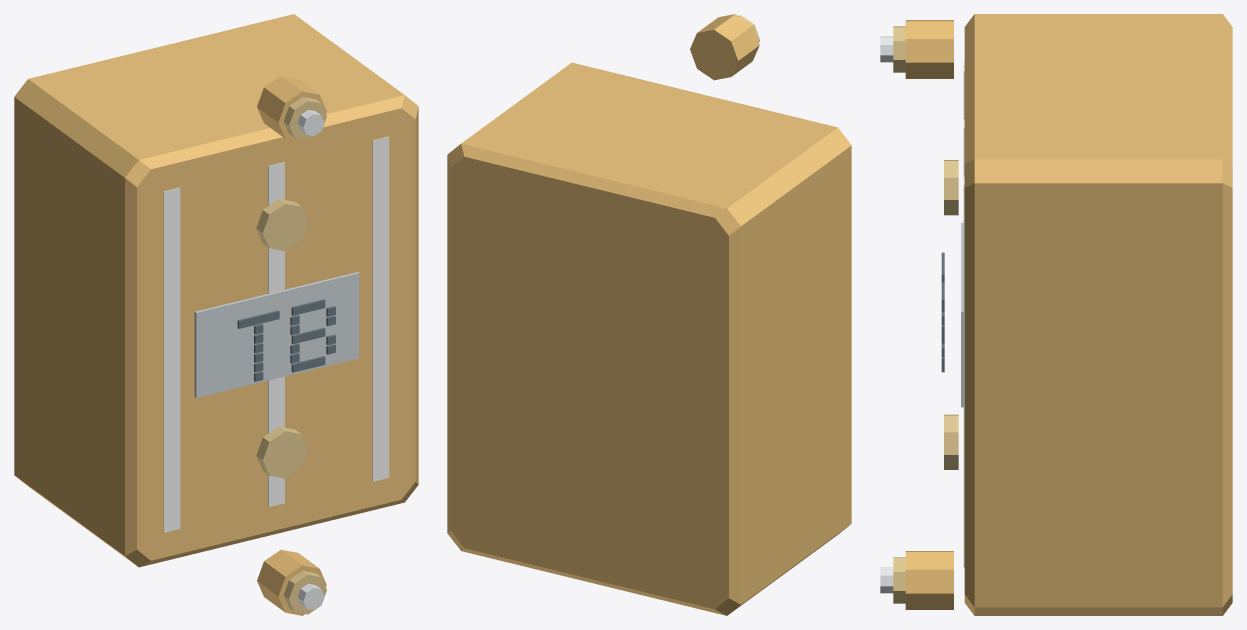
File: terminalBlock.glb
The picture shows the model from 3 angles, left to right: view 1: azimuth 30°, elevation 25°; view 2: azimuth 150°, elevation 25°; view 3: azimuth 270°, elevation 25°; orthographic projection. The views are drawn at different scales.
Parts seen in each view (by area): view 1: terminalBlock-board; view 2: terminalBlock-board; view 3: terminalBlock-board.
Boxes of the visible parts, <box> form: terminalBlock-board: <box>14,14,418,615</box>; terminalBlock-board: <box>447,14,851,615</box>; terminalBlock-board: <box>880,14,1232,615</box>.
Size of the model in its own units: 1.16 by 1.98 by 1.08.
